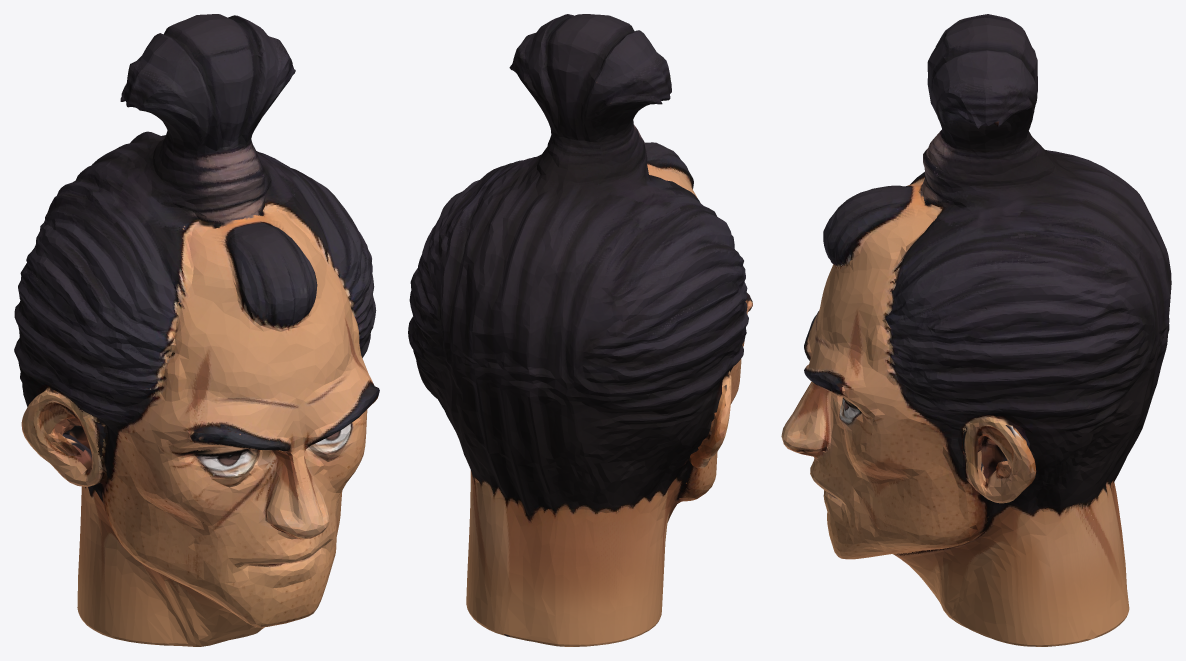
The model's file is side_dorin_repaired_atlas.glb.
3 renders of one model, left to right at view 1: azimuth 30°, elevation 25°; view 2: azimuth 150°, elevation 25°; view 3: azimuth 270°, elevation 25°, orthographic. The views are drawn at different scales.
Parts seen in each view (by area): view 1: temp_mesh.ply; view 2: temp_mesh.ply; view 3: temp_mesh.ply.
Boxes of the visible parts, x1,y1,x2,y2 form: temp_mesh.ply: (14, 14, 379, 646); temp_mesh.ply: (408, 14, 752, 646); temp_mesh.ply: (781, 14, 1171, 646).
Size of the model in its own units: 0.9079 by 1.6 by 0.9751.
1 material, 1 textured.
